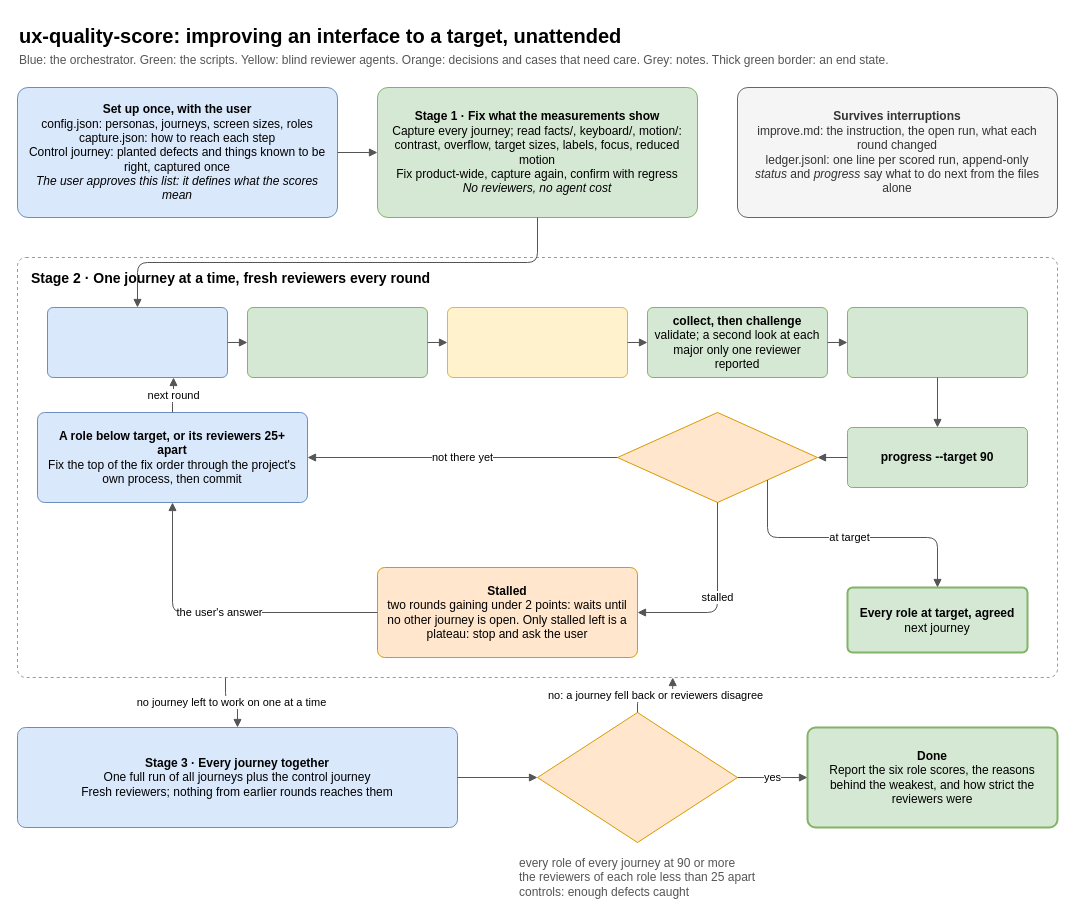
The diagram is 1076 pixels wide and 924 high, and some of its shapes have lost their labels. Each missing label, with the centre of its shape:
"Blind review 6 roles × 2 fresh agents each: score, reason, issues" goes at [537,342].
"capture.cjs, then regress screens · text · facts · probes" goes at [337,342].
"Journey state?" goes at [717,457].
"new-run --unit J on a committed state" goes at [137,342].
"score role scores · fix order · ledger line" goes at [937,342].
"Target met?" goes at [637,777].
